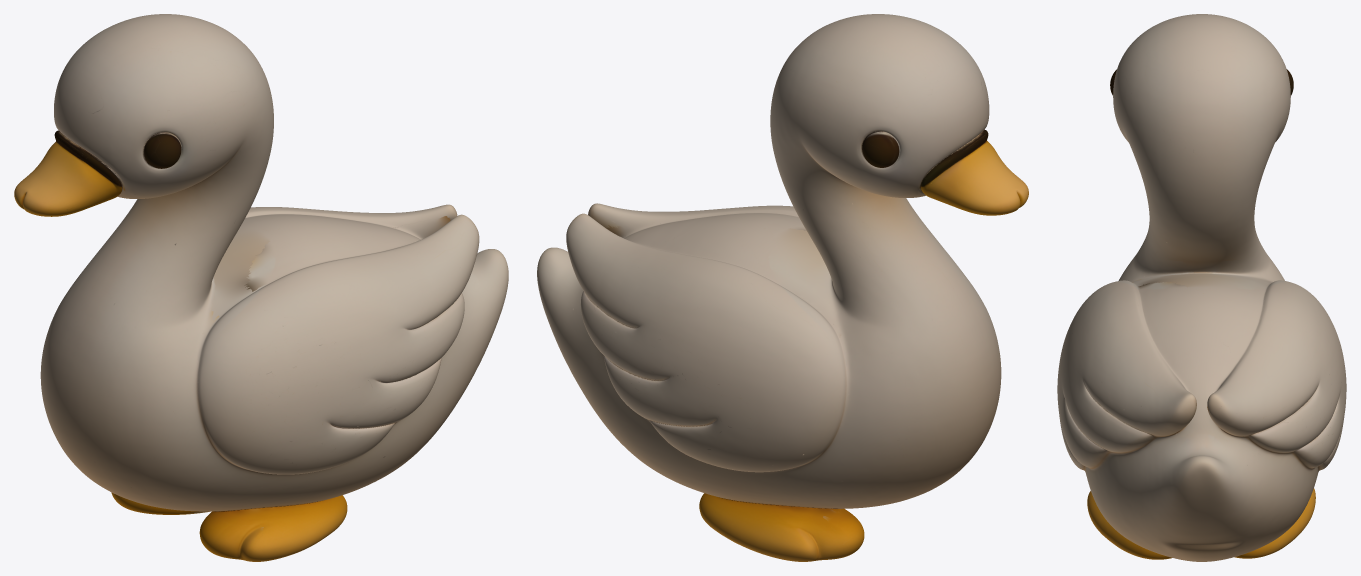
The model's file is tiny_planet_friends_3d-duck-4159.glb.
The picture shows the model from 3 angles, left to right: view 1: azimuth 30°, elevation 25°; view 2: azimuth 150°, elevation 25°; view 3: azimuth 270°, elevation 25°; orthographic projection. The views are drawn at different scales.
Parts seen in each view (by area): view 1: texture_pbr_v128; view 2: texture_pbr_v128; view 3: texture_pbr_v128.
Boxes of the visible parts, left/top/right/bottom form: texture_pbr_v128: left=14, top=14, right=508, bottom=561; texture_pbr_v128: left=537, top=14, right=1028, bottom=561; texture_pbr_v128: left=1057, top=14, right=1346, bottom=561.
Size of the model in its own units: 1.05 by 1.06 by 0.5924.
Materials: 1 (1 with a texture image).
